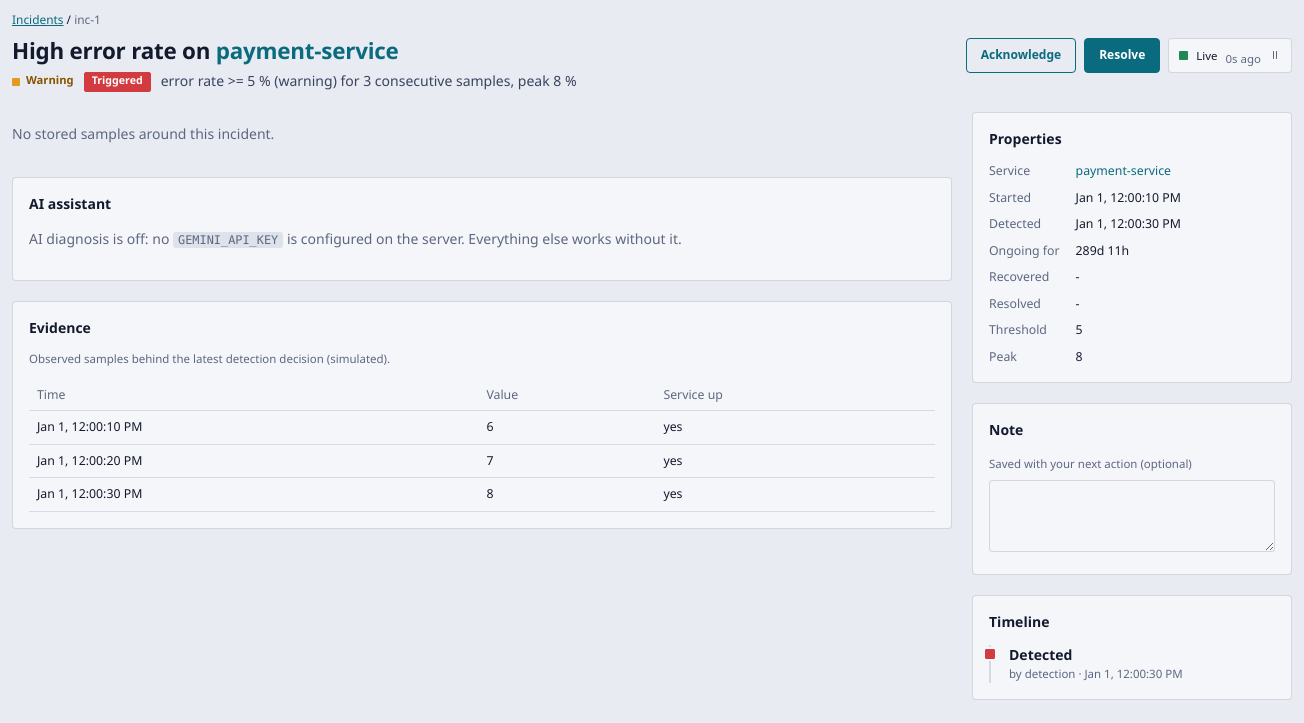
Test: incident detail › sends the note and shows a 409 conflict clearly
Type "rolled back deploy" into the text box labelled "Saved with your next action (optional)" at (1132, 516), box [989,480,1275,552]
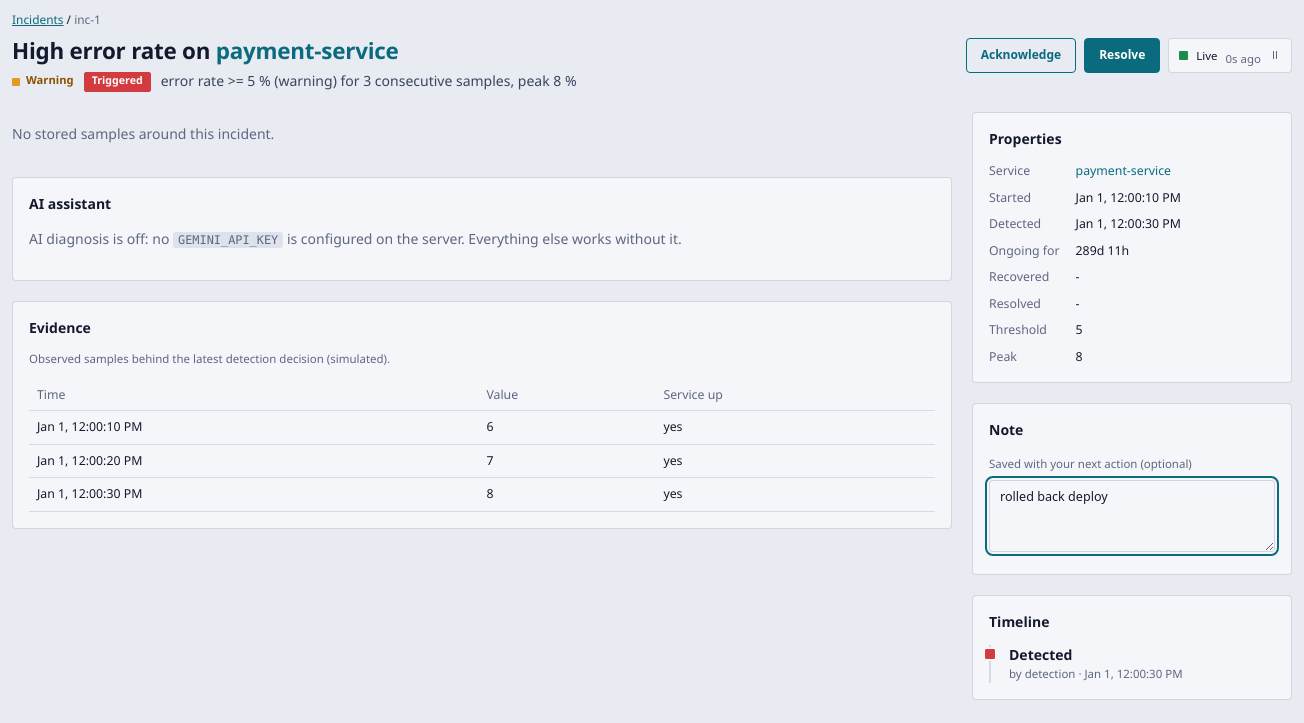
Click the button "Resolve" at (1122, 55), box [1084,38,1160,72]
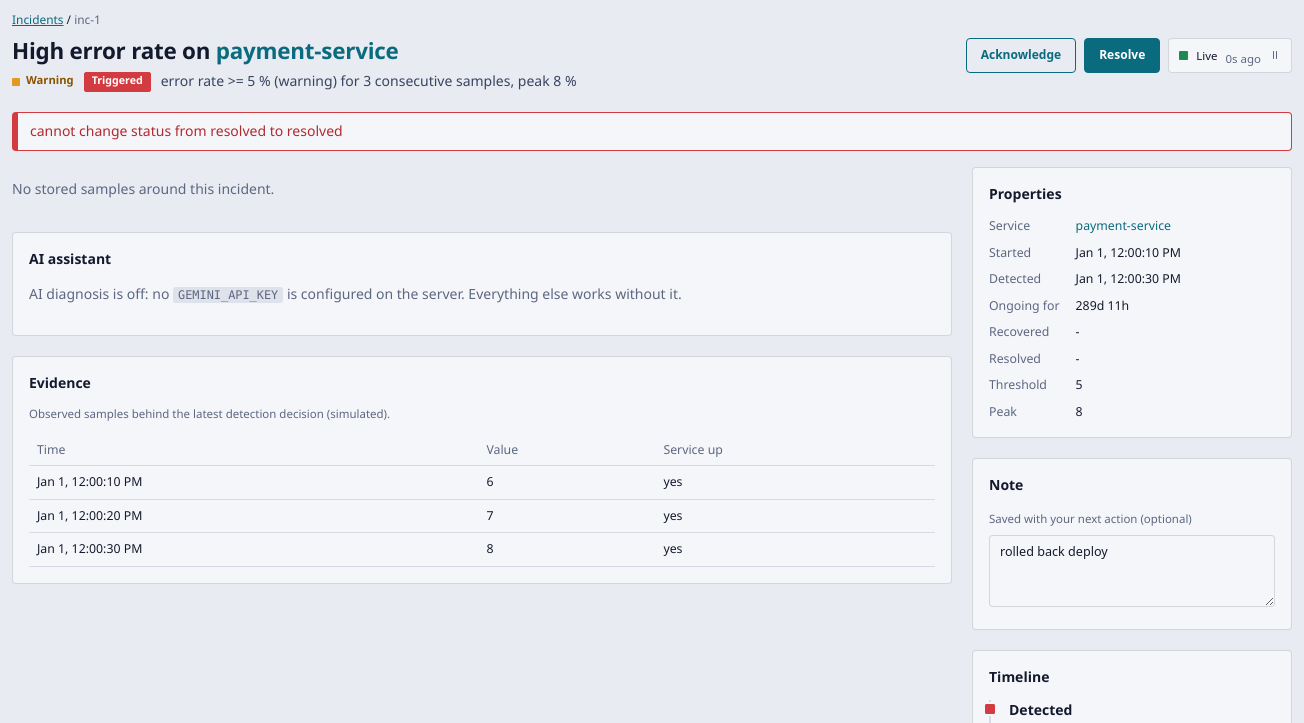
Result: the message shows "cannot change status" at [30,122,343,141]
